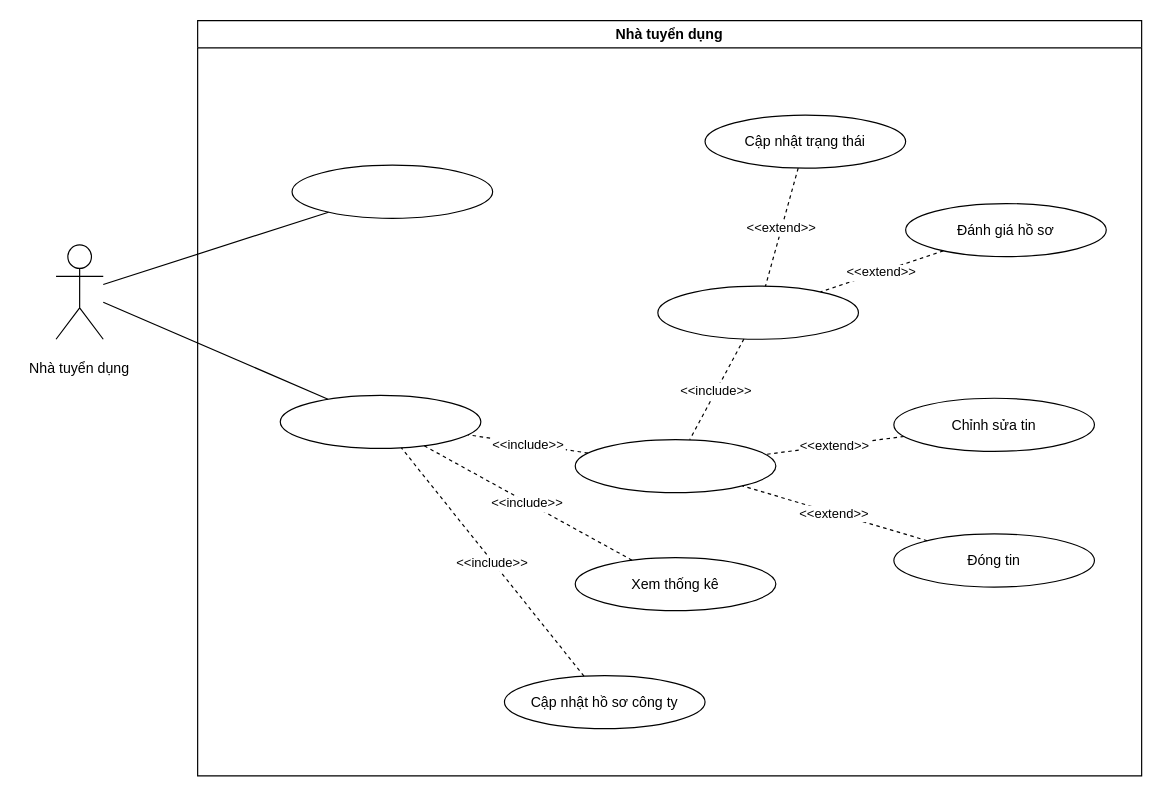
This 1162x796 diagram has some shape labels left out. Each missing label, with the box of its shape:
Xem DS ứng viên: (657, 285, 858, 339)
Đăng ký tài khoản: (291, 164, 493, 218)
Đăng nhập: (279, 394, 481, 448)
Đăng tin tuyển dụng: (574, 438, 776, 493)
